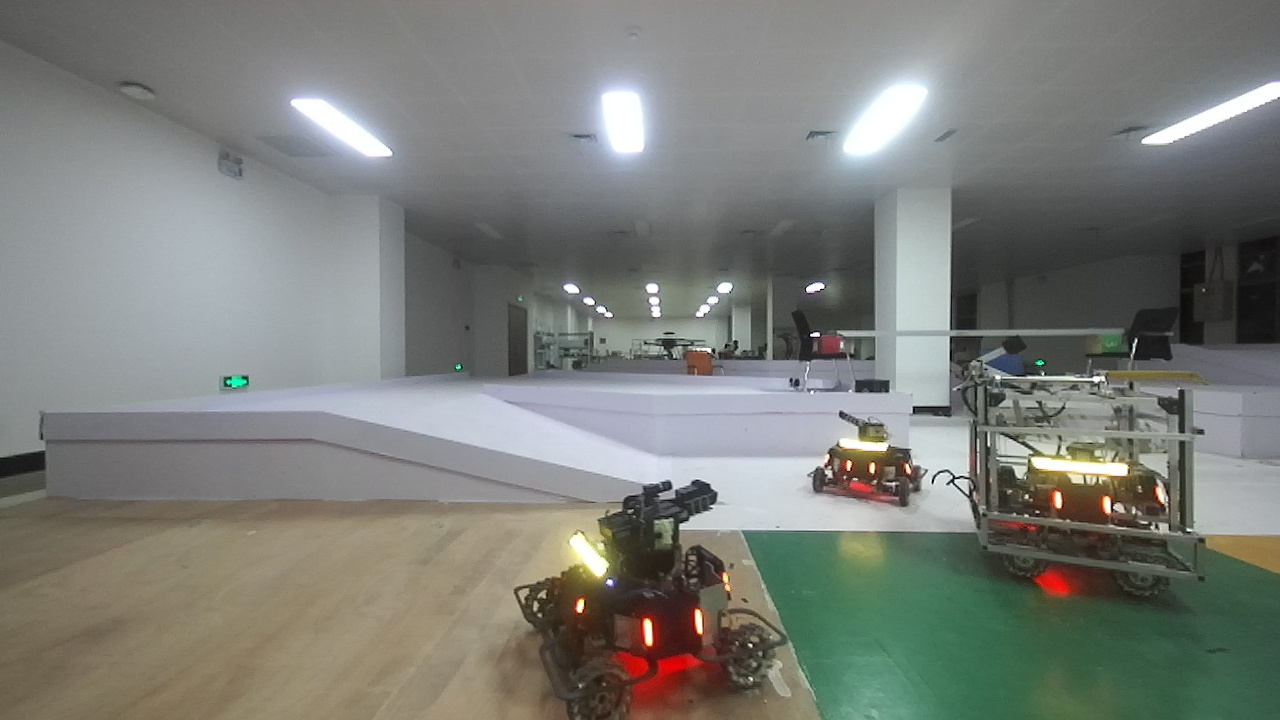car: (482, 468, 785, 720), (965, 356, 1214, 607), (805, 399, 936, 516)
